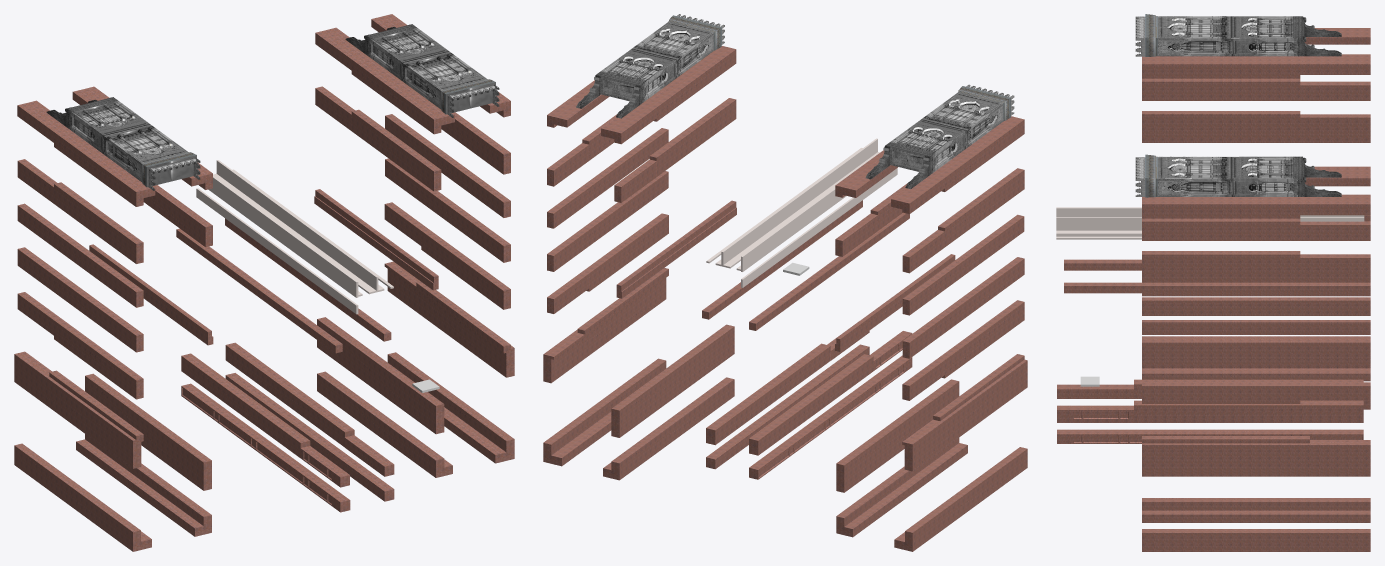
Rendered from castelo_mourisco_outras.fbx.
The picture shows the model from 3 angles, left to right: view 1: azimuth 30°, elevation 25°; view 2: azimuth 150°, elevation 25°; view 3: azimuth 270°, elevation 25°; orthographic projection. The views are drawn at different scales.
Parts seen in each view (by area): view 1: colunas_tijolo, paredes_torre_oeste, torre_anexa, torre_anexa.001, colunas_tijolo.003, colunas_tijolo.004, colunas_tijolo.002, colunas_tijolo.001; view 2: colunas_tijolo, paredes_torre_oeste, torre_anexa.001, torre_anexa, colunas_tijolo.004, colunas_tijolo.003, colunas_tijolo.002, colunas_tijolo.001; view 3: colunas_tijolo, torre_anexa.001, torre_anexa, colunas_tijolo.003, paredes_torre_oeste, colunas_tijolo.001, colunas_tijolo.004, colunas_tijolo.002.
Boxes of the visible parts, x1,y1,x2,y2 form: colunas_tijolo: (14, 14, 514, 551); paredes_torre_oeste: (196, 160, 393, 314); torre_anexa: (345, 24, 499, 117); torre_anexa.001: (46, 97, 200, 190); colunas_tijolo.003: (225, 342, 394, 476); colunas_tijolo.004: (181, 353, 349, 487); colunas_tijolo.002: (181, 383, 350, 512); colunas_tijolo.001: (225, 373, 394, 501); colunas_tijolo: (543, 46, 1027, 551); paredes_torre_oeste: (706, 138, 897, 287); torre_anexa.001: (865, 84, 1014, 189); torre_anexa: (576, 14, 724, 118); colunas_tijolo.004: (749, 331, 912, 455); colunas_tijolo.003: (706, 321, 869, 445); colunas_tijolo.002: (749, 355, 912, 479); colunas_tijolo.001: (706, 344, 869, 469); colunas_tijolo: (1064, 28, 1370, 551); torre_anexa.001: (1135, 14, 1341, 56); torre_anexa: (1135, 154, 1341, 197); colunas_tijolo.003: (1057, 400, 1363, 419); paredes_torre_oeste: (1056, 207, 1364, 239); colunas_tijolo.001: (1057, 429, 1363, 443); colunas_tijolo.004: (1057, 379, 1363, 398); colunas_tijolo.002: (1057, 420, 1363, 422).
Bounding box in the file's own units: 4726 × 4494 × 3502.
12 materials, 11 textured.
